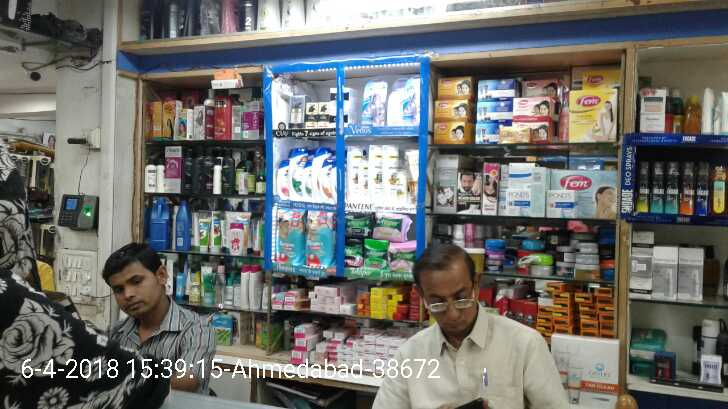venus: (360, 79, 387, 127), (394, 79, 418, 123)
